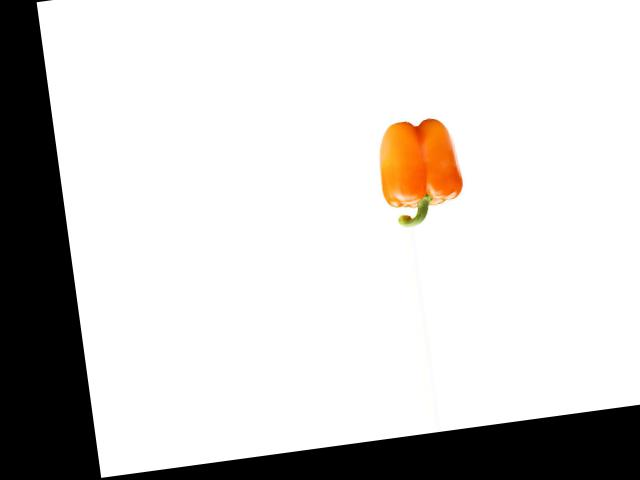bell_pepper: (364, 113, 475, 231)
